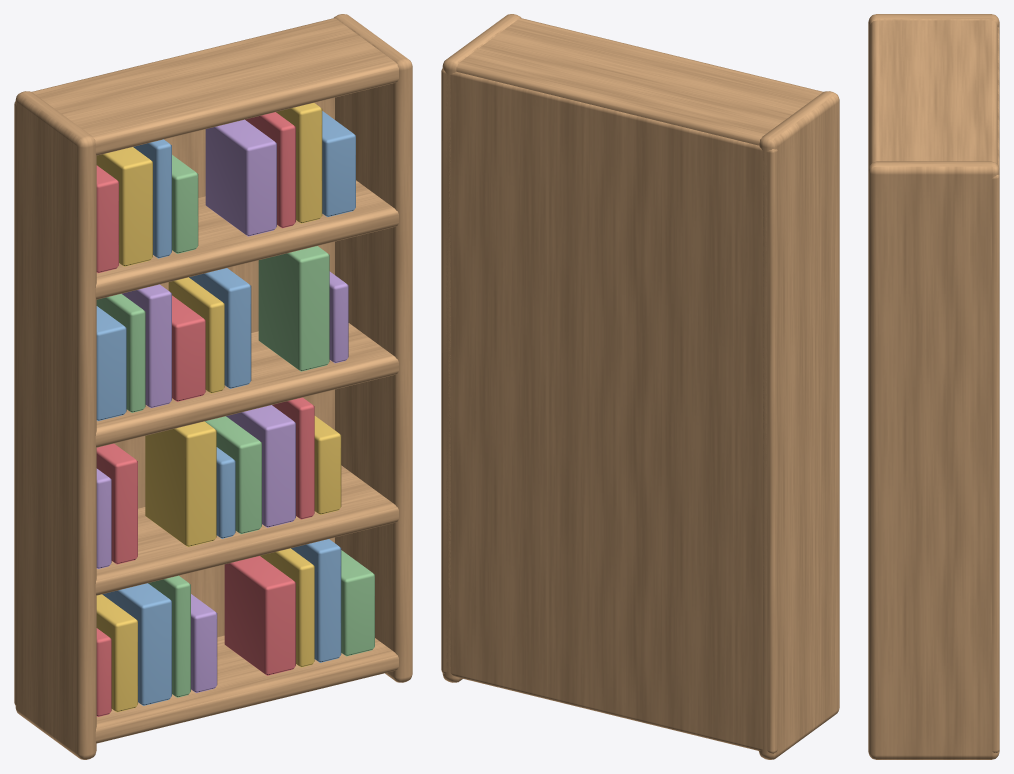
The model's file is prop_bookshelf.glb.
3 renders of one model, left to right at view 1: azimuth 30°, elevation 25°; view 2: azimuth 150°, elevation 25°; view 3: azimuth 270°, elevation 25°, orthographic. The views are drawn at different scales.
Visible parts, largest first — view 1: prop_bookshelf; view 2: prop_bookshelf; view 3: prop_bookshelf.
Boxes of the visible parts, x1,y1,x2,y2 form: prop_bookshelf: (14, 14, 412, 759); prop_bookshelf: (441, 14, 839, 759); prop_bookshelf: (868, 14, 999, 759).
Bounding box in the file's own units: 1.12 × 2 × 0.4.
Materials: 6 (1 with a texture image).
